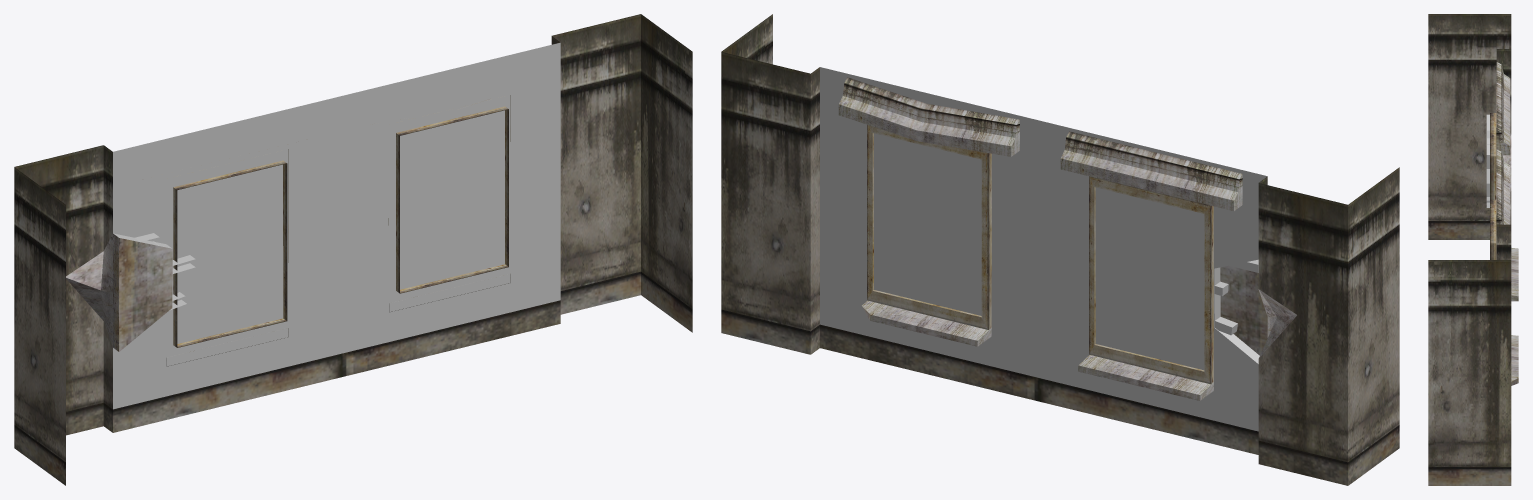
File: Store_front_2_D.fbx
3 renders of one model, left to right at view 1: azimuth 30°, elevation 25°; view 2: azimuth 150°, elevation 25°; view 3: azimuth 270°, elevation 25°, orthographic. The views are drawn at different scales.
Parts seen in each view (by area): view 1: Store_front_2_D; view 2: Store_front_2_D; view 3: Store_front_2_D.
Boxes of the visible parts, x1,y1,x2,y2 form: Store_front_2_D: (14, 14, 692, 485); Store_front_2_D: (721, 14, 1399, 485); Store_front_2_D: (1428, 14, 1518, 485).
Size of the model in its own units: 700 by 300 by 109.
